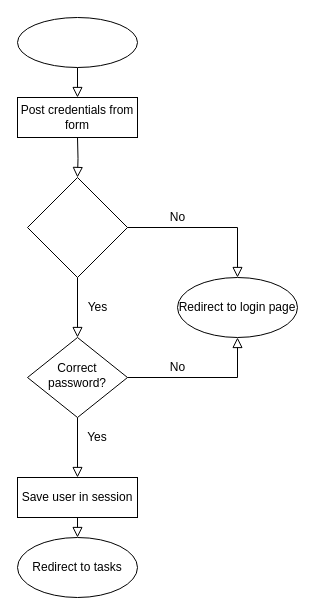
This 315x615 diagram has some shape labels left out. Here are the shapes that lost their labels. From the top down, the centre of each, then its label:
At point (77, 42): "Fill in credentials at login page".
At point (77, 227): "User with the email exist?".
